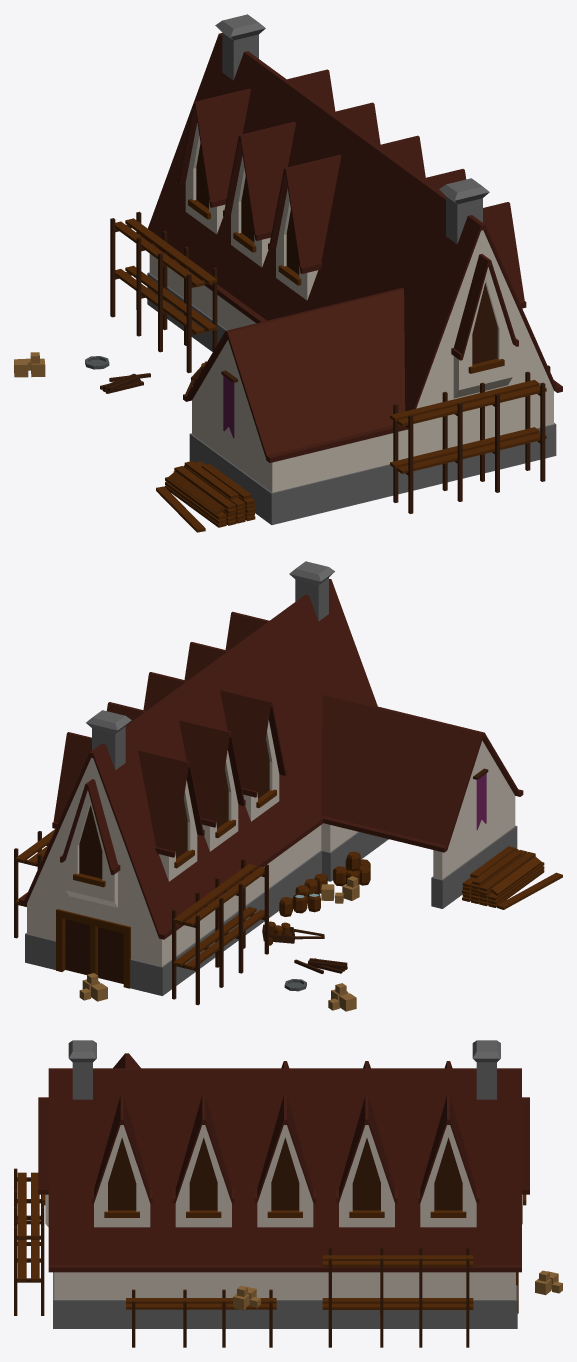
File: BarracksBuildPhase3v1.fbx
The picture shows the model from 3 angles, top to bottom: view 1: azimuth 30°, elevation 25°; view 2: azimuth 150°, elevation 25°; view 3: azimuth 270°, elevation 25°; orthographic projection. The views are drawn at different scales.
Parts seen in each view (by area): view 1: Plane.1132; view 2: Plane.1132; view 3: Plane.1132.
Part boxes in pixels (box(x1,y1,x2,y2)): Plane.1132: box(14, 14, 562, 532); Plane.1132: box(14, 561, 562, 1011); Plane.1132: box(14, 1040, 562, 1347).
Size of the model in its own units: 273 by 189 by 373.
